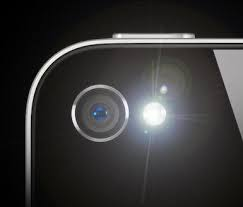Flash: (56, 75, 227, 177)
